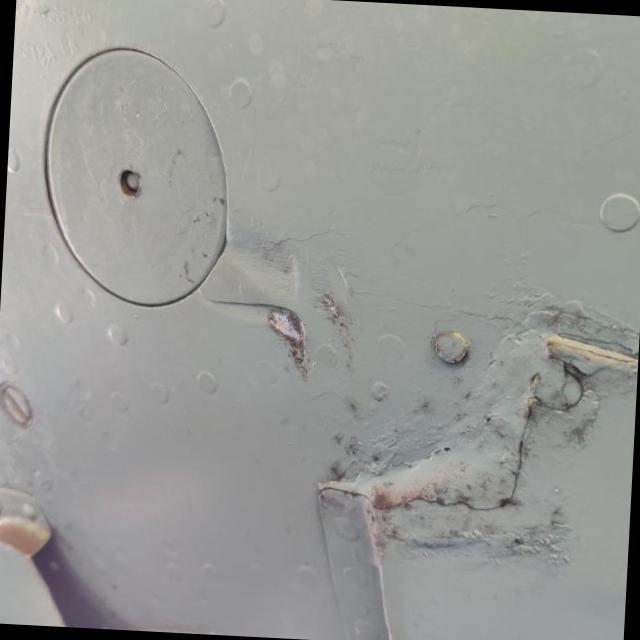Paint-off: (260, 306, 309, 383)
